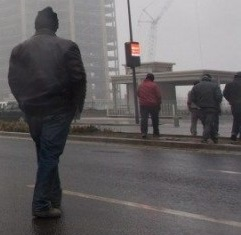person: (7, 5, 90, 219), (189, 72, 225, 146), (136, 73, 166, 142), (223, 72, 241, 144), (187, 79, 203, 136)
